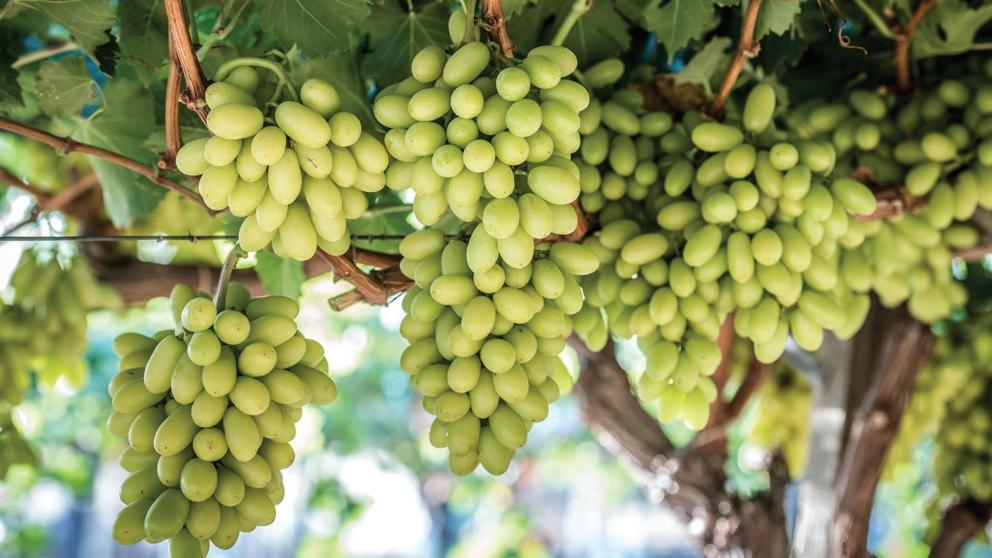Green grapes: (381, 44, 590, 269), (126, 293, 296, 558), (698, 108, 843, 364), (410, 242, 560, 485), (204, 63, 378, 265)
